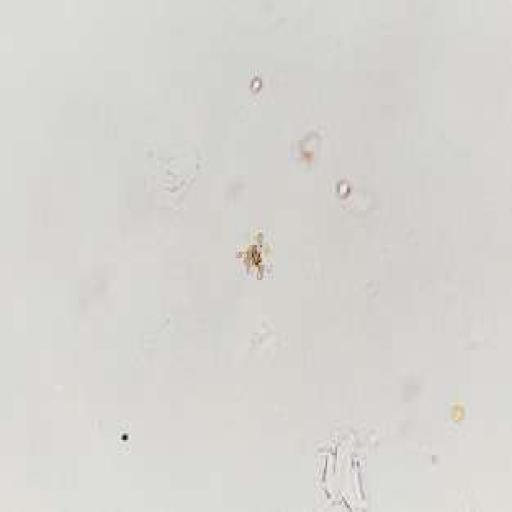CFU-E: (236, 232, 267, 278)
